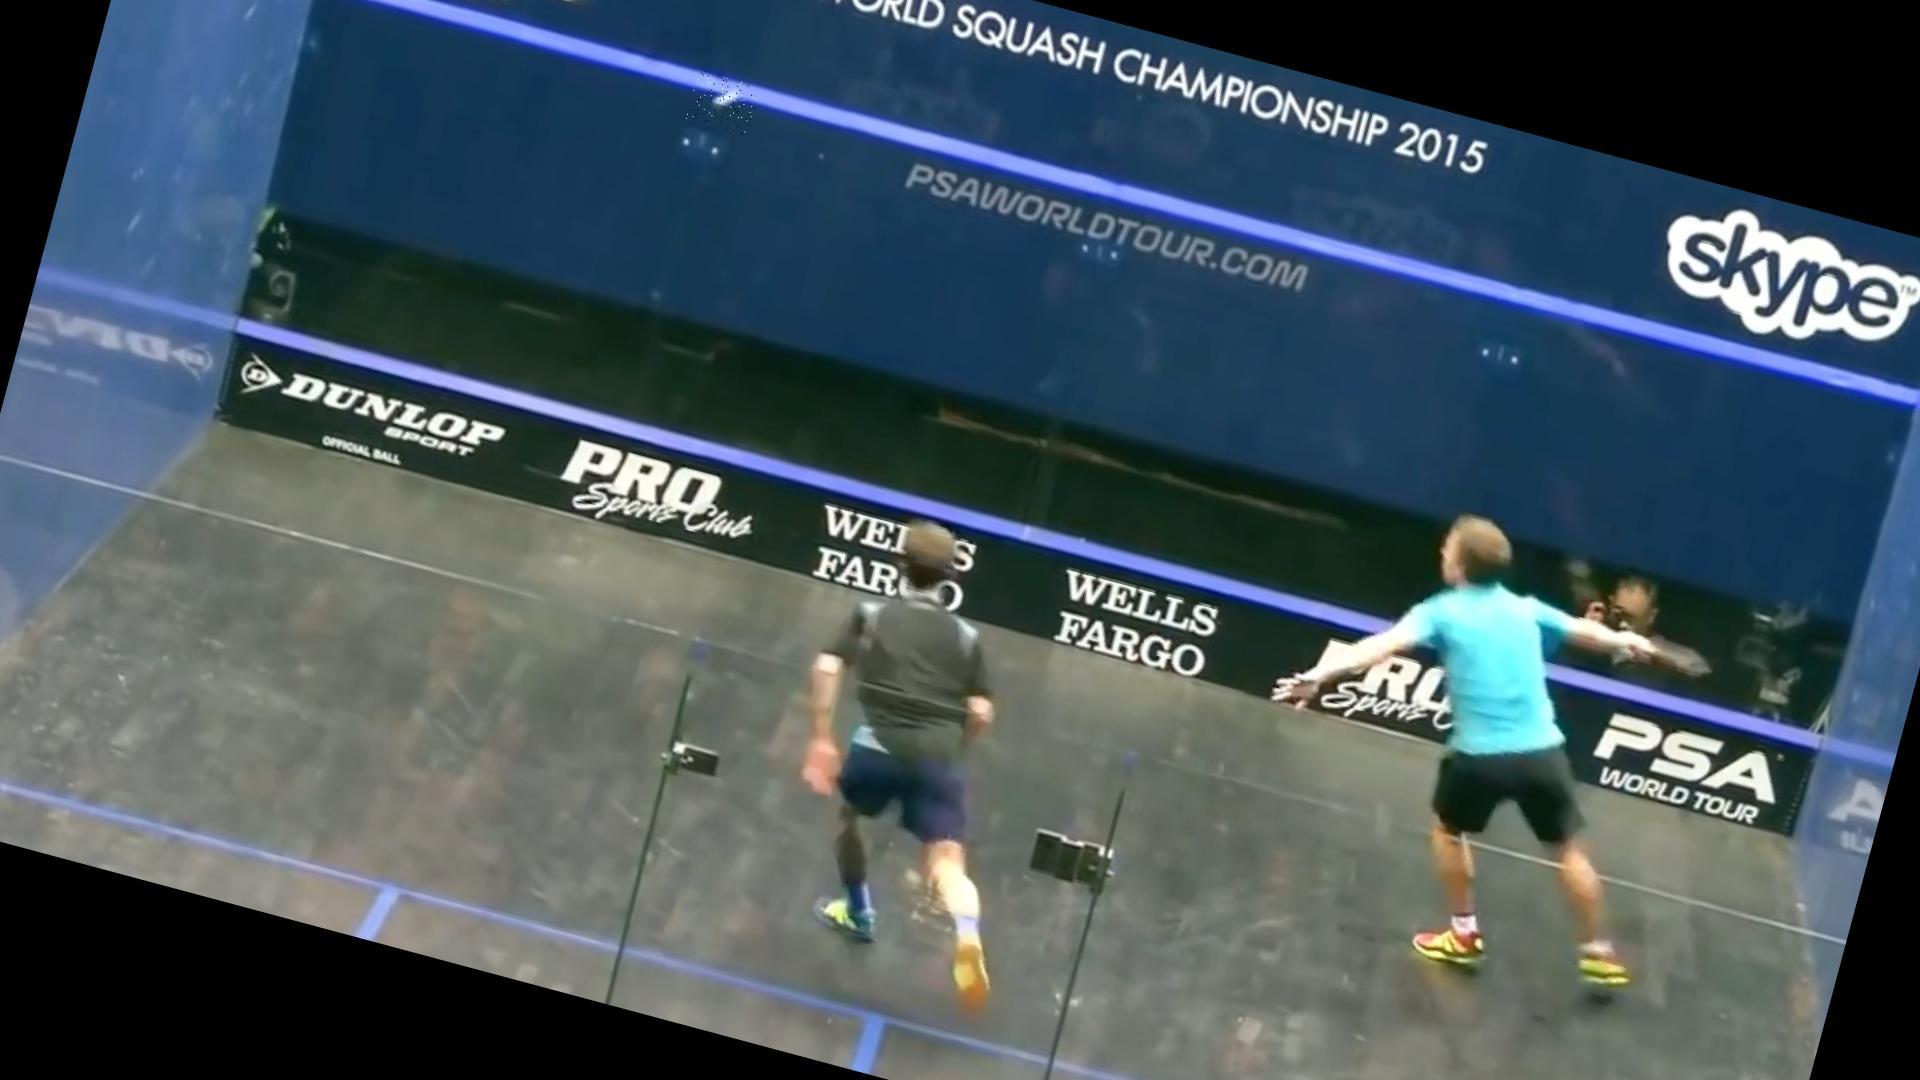Squash-Ball: (684, 70, 761, 136)
